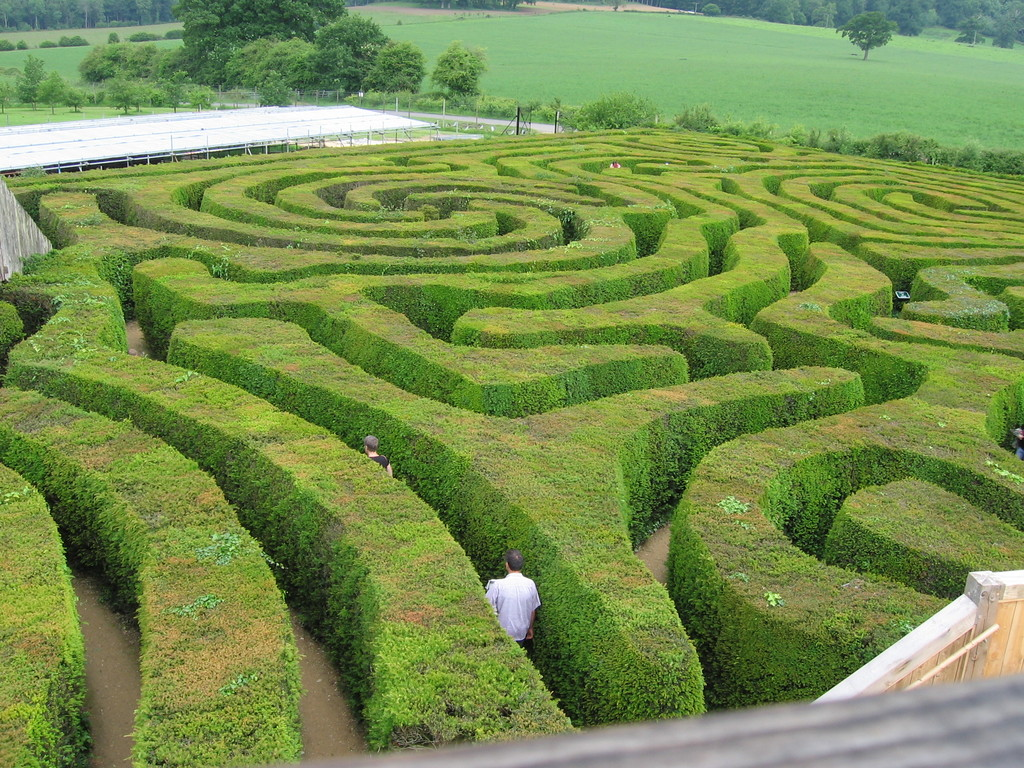person: (482, 548, 542, 657)
